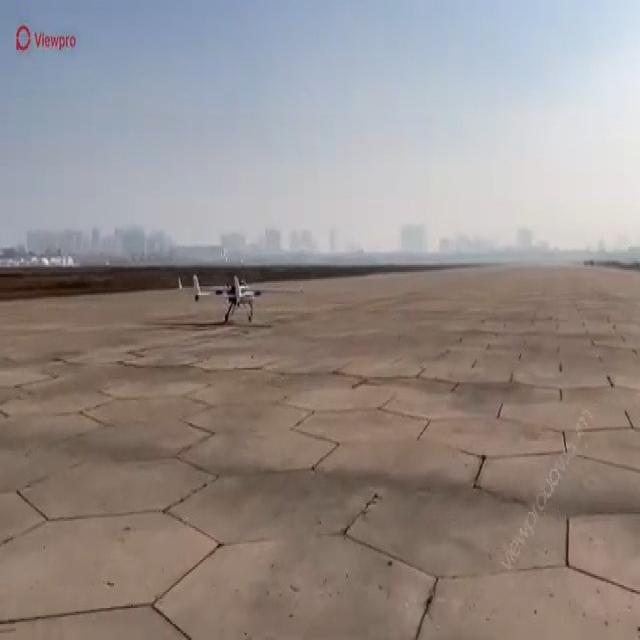drones: (186, 267, 306, 335)
